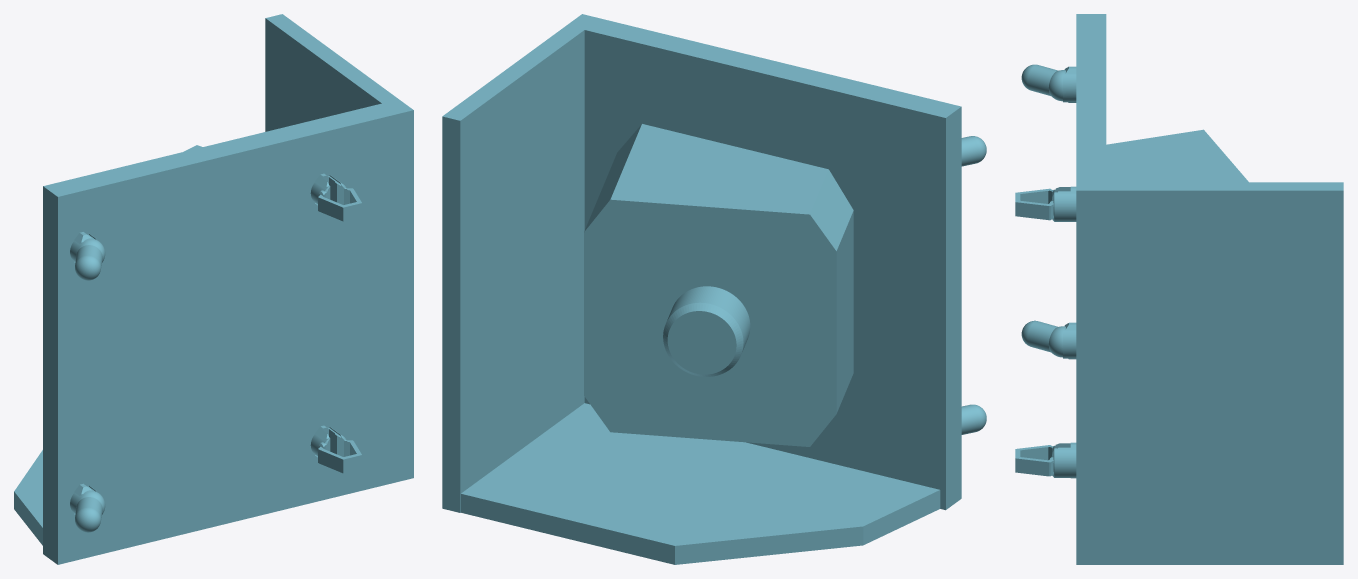
Rendered from part-reel-thick__current-mounts-v1__fit-pf02c9-hoop5__print.glb.
3 renders of one model, left to right at view 1: azimuth 30°, elevation 25°; view 2: azimuth 150°, elevation 25°; view 3: azimuth 270°, elevation 25°, orthographic. The views are drawn at different scales.
Visible parts, largest first — view 1: print.stl; view 2: print.stl; view 3: print.stl.
Part boxes in pixels (box(x1,y1,x2,y2)): print.stl: box(14, 14, 413, 564); print.stl: box(442, 14, 986, 564); print.stl: box(1015, 14, 1343, 564).
Bounding box in the file's own units: 0.0754 × 0.0742 × 0.0589.
